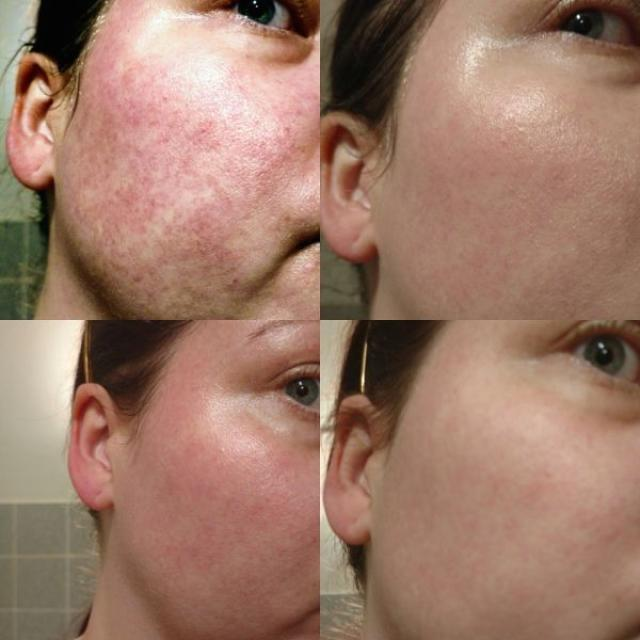Rosacea: (69, 38, 236, 294), (150, 406, 335, 581)
